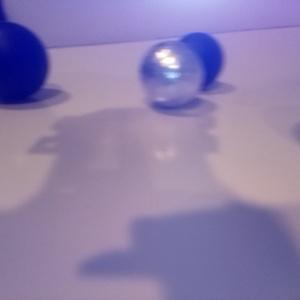alive_ball: (138, 40, 204, 108)
dead_ball: (1, 21, 48, 105), (176, 33, 223, 89)
